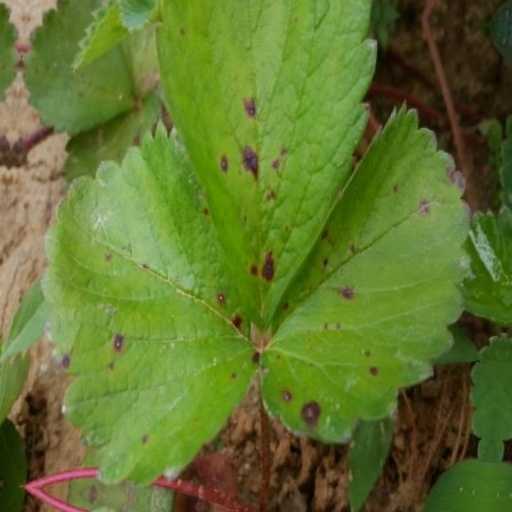Leaf Spot: (43, 131, 273, 499), (127, 0, 355, 336), (273, 82, 472, 433), (0, 9, 122, 160), (53, 105, 146, 215)
